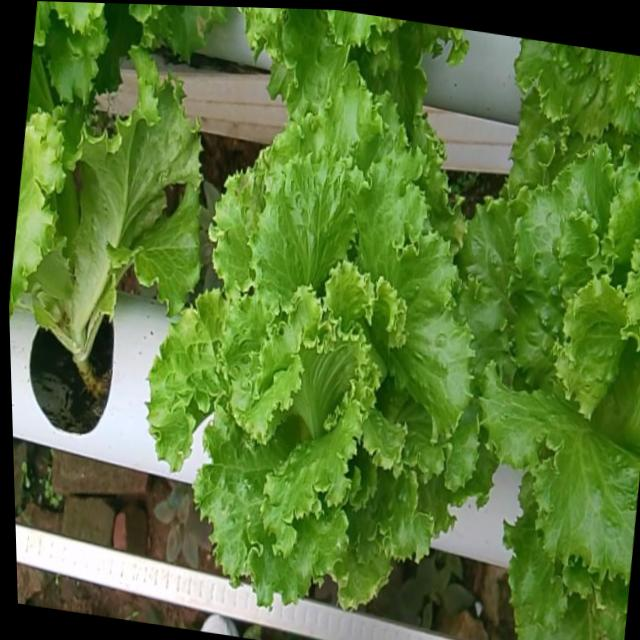Mature: (141, 91, 474, 619), (456, 150, 640, 598)
